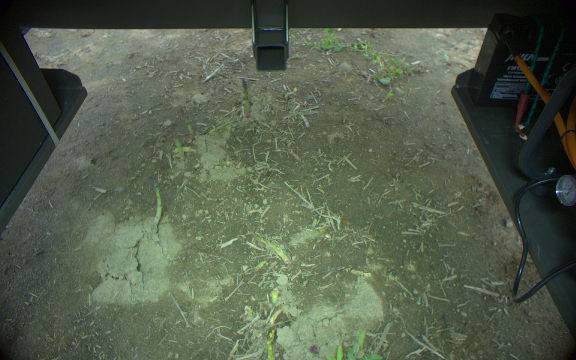aspa: (255, 234, 290, 266), (148, 177, 163, 229), (178, 105, 194, 137), (239, 77, 251, 119), (264, 327, 278, 360), (171, 135, 184, 160)
